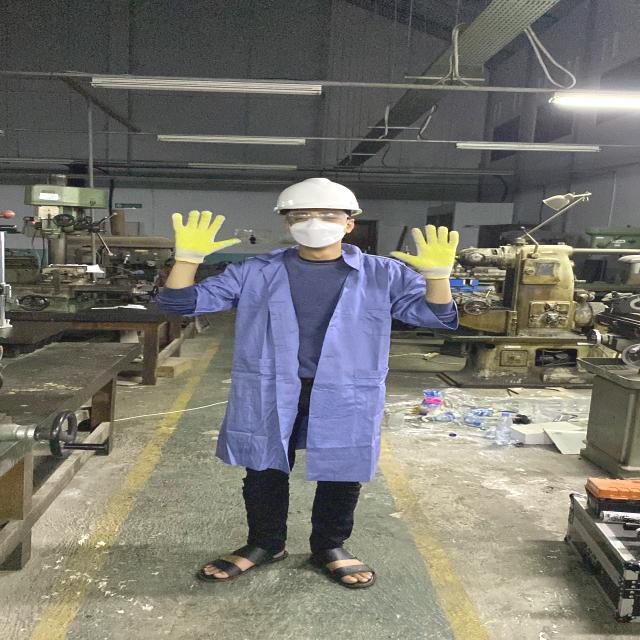face_mask: (278, 208, 349, 248)
glasses: (280, 210, 354, 222)
hand_glove: (163, 205, 244, 260), (390, 222, 467, 272)
head_helmet: (270, 174, 365, 214)
person: (148, 176, 474, 594)
